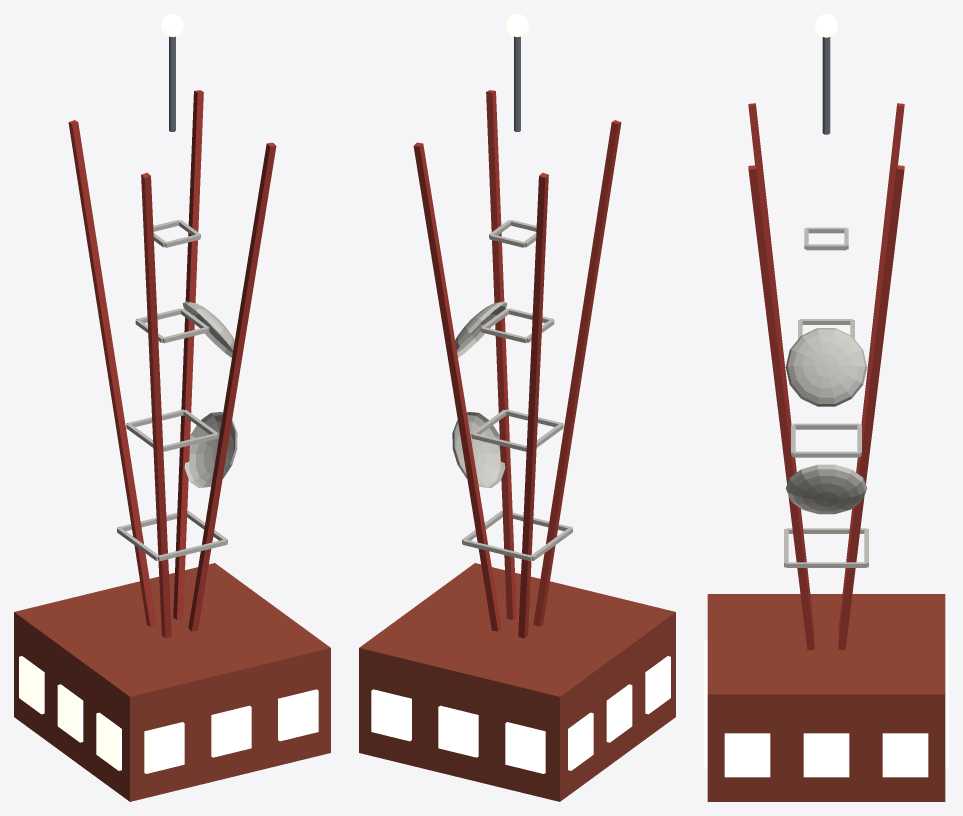
The model's file is edge-broadcast-tower.glb.
3 renders of one model, left to right at view 1: azimuth 30°, elevation 25°; view 2: azimuth 150°, elevation 25°; view 3: azimuth 270°, elevation 25°, orthographic. The views are drawn at different scales.
Parts seen in each view (by area): view 1: cw_paint, cw_glow; view 2: cw_paint, cw_glow; view 3: cw_paint, cw_glow.
Part boxes in pixels (x1,y1,x2,y2): cw_paint: (14, 36, 330, 801); cw_glow: (19, 14, 318, 773); cw_paint: (359, 36, 675, 801); cw_glow: (371, 14, 670, 773); cw_paint: (707, 37, 945, 801); cw_glow: (704, 14, 948, 777).
Size of the model in its own units: 3.3 by 10.96 by 3.3.
